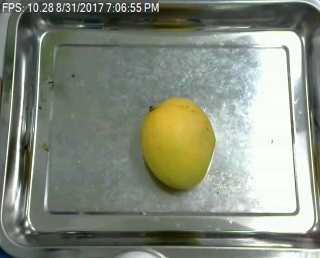Mango: (141, 98, 215, 187)
